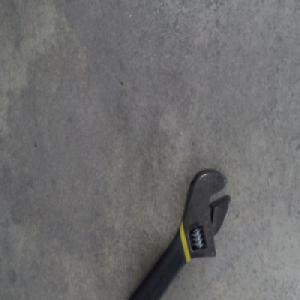AdjustableWrench: (127, 169, 231, 299)
